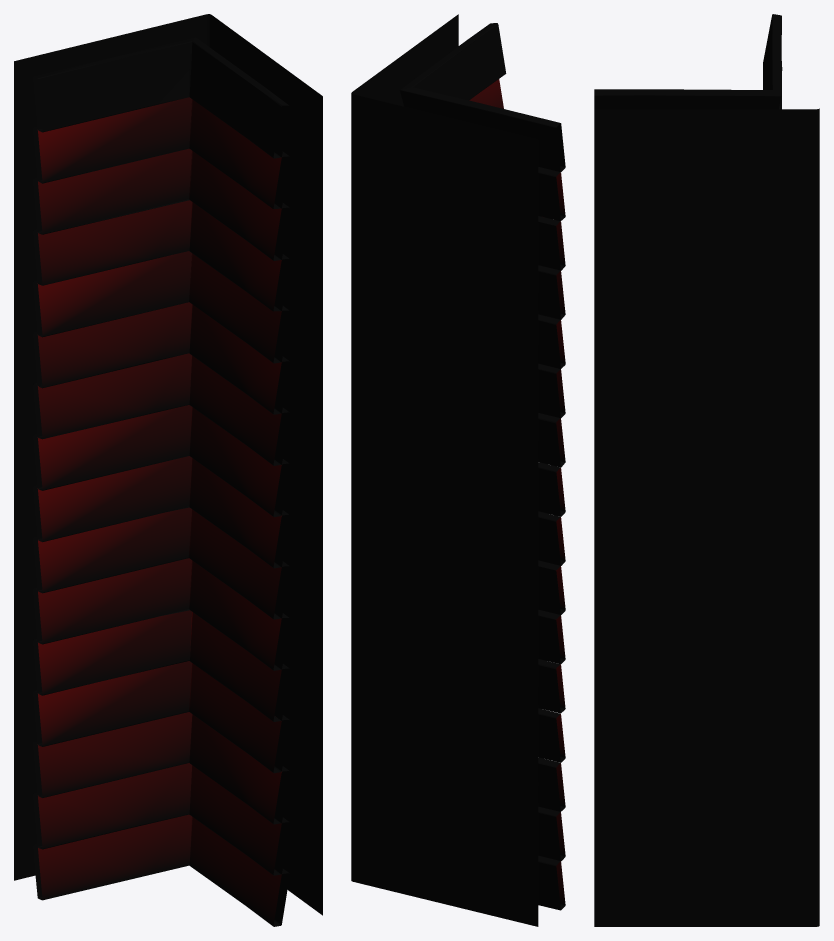
The model's file is SM_House_ExtWall_InnerCorner_A2.fbx.
3 views of the same model, side by side, from view 1: azimuth 30°, elevation 25°; view 2: azimuth 150°, elevation 25°; view 3: azimuth 270°, elevation 25° (orthographic). The views are drawn at different scales.
Visible parts, largest first — view 1: SM_House_ExtWall_InnerCorner_A2; view 2: SM_House_ExtWall_InnerCorner_A2; view 3: SM_House_ExtWall_InnerCorner_A2.
Part boxes in pixels (x1,y1,x2,y2): SM_House_ExtWall_InnerCorner_A2: (14,14,322,926); SM_House_ExtWall_InnerCorner_A2: (351,14,565,926); SM_House_ExtWall_InnerCorner_A2: (594,14,819,926).
Bounding box in the file's own units: 80.07 × 80.01 × 321.
